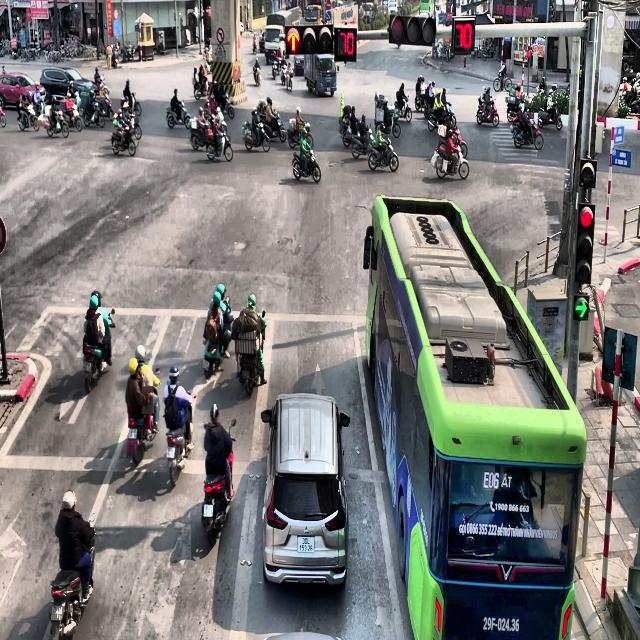BUS: (363, 194, 587, 639)
CAR: (261, 392, 350, 588), (40, 67, 98, 104), (0, 72, 46, 110)
MOTORBIKE: (49, 512, 96, 640), (201, 418, 236, 546), (126, 368, 160, 466), (165, 394, 197, 487), (82, 308, 116, 393), (235, 310, 266, 396), (202, 298, 232, 380), (432, 141, 469, 180), (367, 136, 399, 172), (512, 117, 544, 150), (206, 122, 233, 161), (111, 115, 136, 156), (44, 96, 69, 137), (292, 148, 321, 183), (208, 82, 235, 118), (427, 101, 456, 132), (242, 120, 270, 152), (259, 110, 286, 143), (16, 95, 40, 132), (190, 116, 215, 151), (58, 96, 82, 132), (83, 91, 105, 127), (537, 100, 563, 130), (476, 95, 500, 127), (351, 127, 375, 159), (166, 100, 192, 129), (288, 119, 313, 149), (339, 118, 362, 147), (381, 107, 401, 138), (505, 94, 526, 123), (393, 95, 412, 123), (121, 92, 141, 117), (493, 67, 512, 92), (193, 71, 209, 100), (270, 54, 287, 78), (280, 64, 293, 91), (414, 89, 426, 111), (252, 65, 262, 86)
TRAFFIC_LIGHT: (574, 201, 594, 284), (388, 13, 436, 46), (286, 23, 333, 54), (334, 26, 357, 62)
